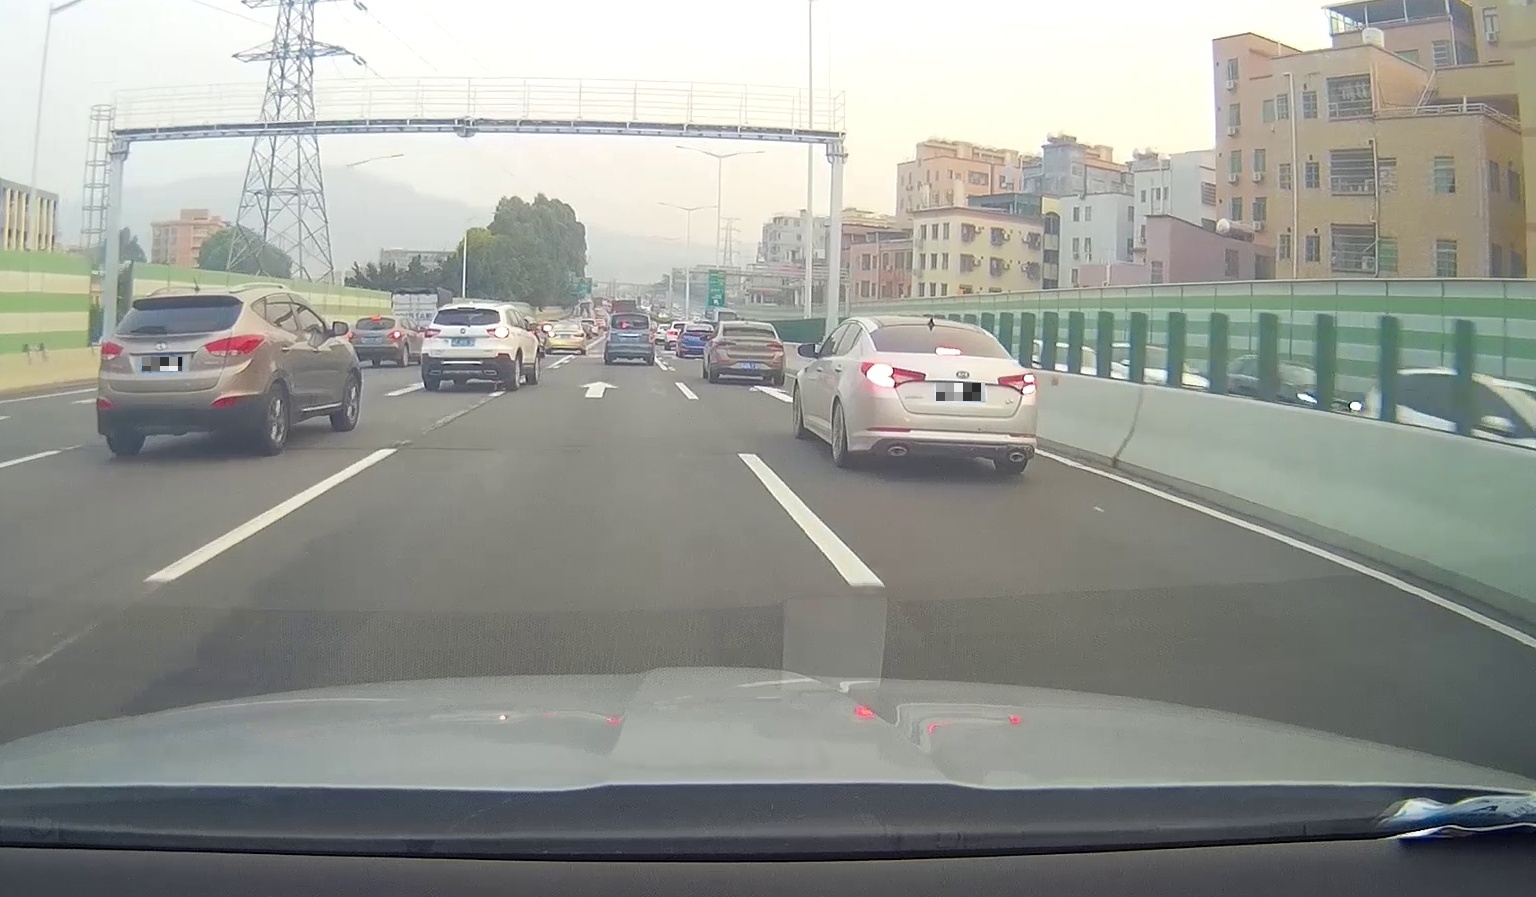L_light: (861, 362, 927, 387), (100, 340, 123, 360), (424, 328, 440, 337), (716, 341, 737, 346)
R_light: (204, 333, 265, 356), (997, 372, 1036, 395), (487, 327, 509, 337), (766, 343, 783, 348)
T_light: (937, 348, 960, 355), (175, 298, 195, 303), (459, 309, 475, 312), (744, 327, 753, 330)
day-brake: (856, 321, 1038, 472)
day-no: (96, 292, 267, 457), (712, 322, 785, 385)
day-right: (419, 304, 511, 391)
plate_1: (142, 357, 183, 371)
plate_2: (936, 383, 985, 402)
